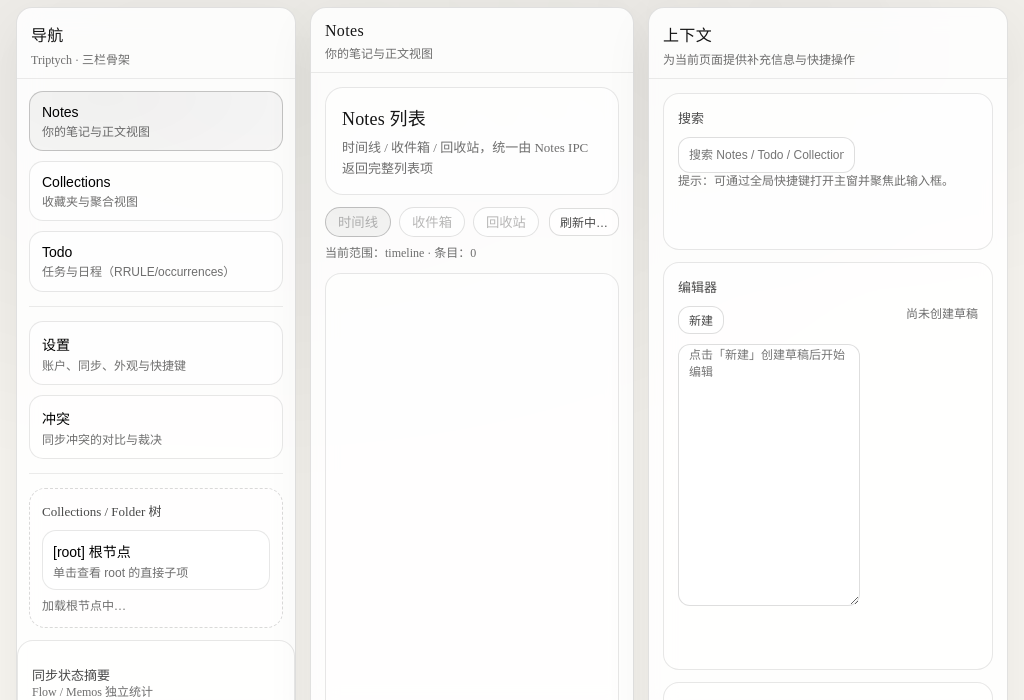
Test case: <App /> › 设置页：更新区块必须包含关键 data-testid（disabled 提示也要可定位）
Click the button with test id "nav-settings". click: (156, 353)
box: x1=29 y1=321 x2=283 y2=385
(page scrolled)
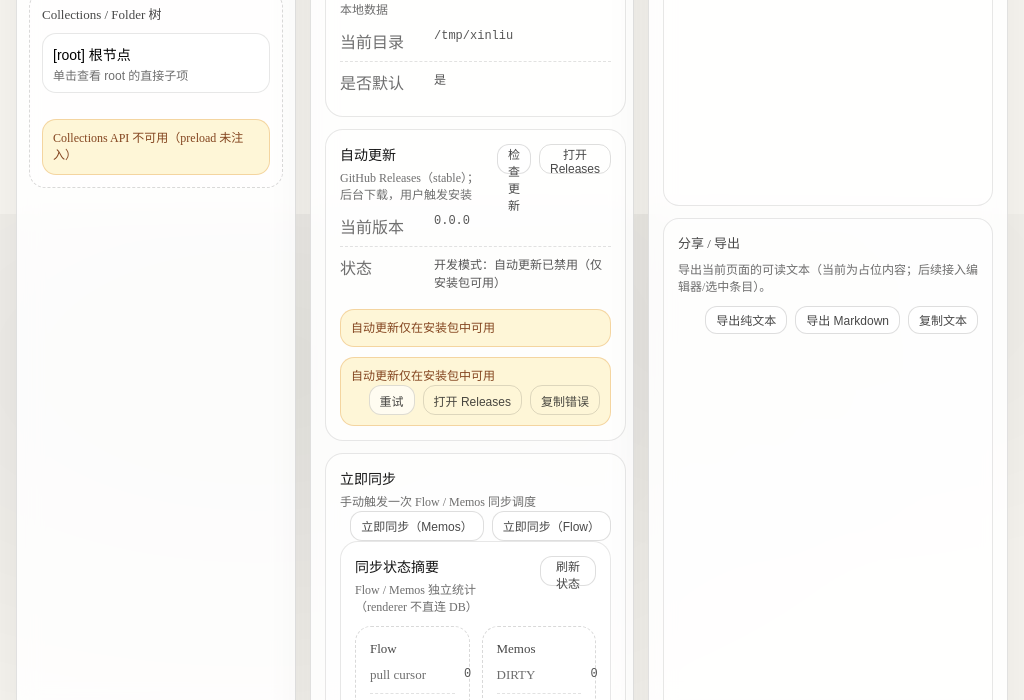
Expected: the element with test id "settings-updater" is shown, x1=325 y1=129 x2=626 y2=441
Expected: the button with test id "check-updates" is shown, x1=497 y1=144 x2=531 y2=174
Expected: the button with test id "update-open-releases" is shown, x1=539 y1=144 x2=611 y2=174
